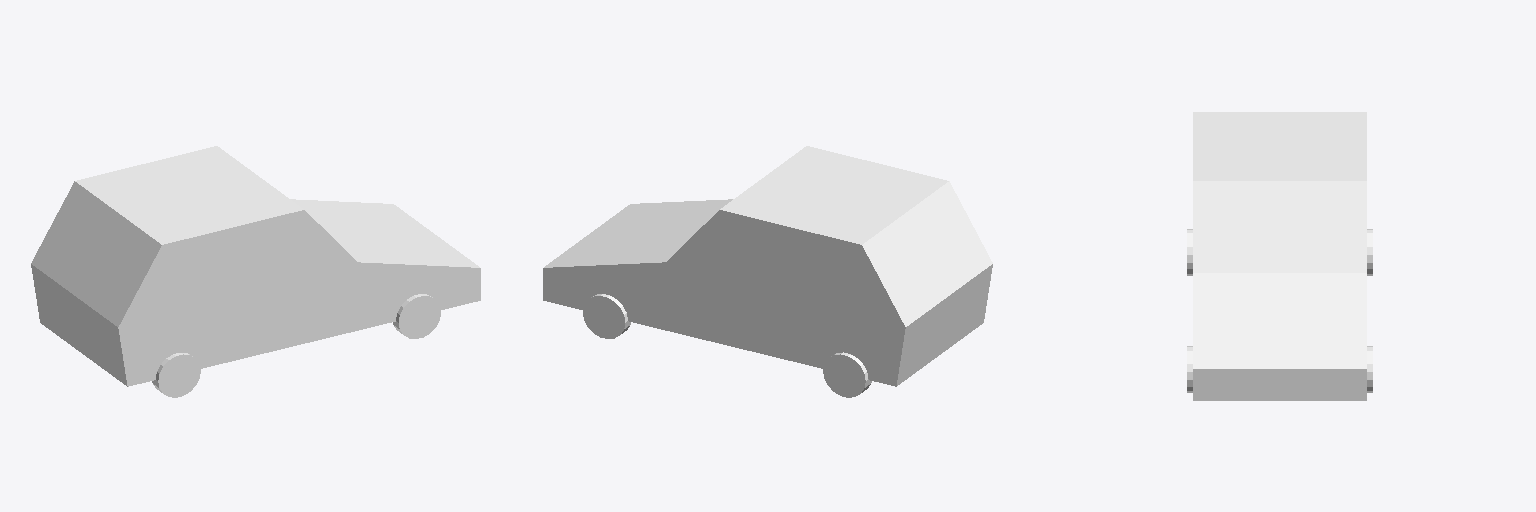
Rendered from car1.obj.
3 views of the same model, side by side, from view 1: azimuth 30°, elevation 25°; view 2: azimuth 150°, elevation 25°; view 3: azimuth 270°, elevation 25° (orthographic).
Visible parts, largest first — view 1: CAR_01_CAR_02.001; view 2: CAR_01_CAR_02.001; view 3: CAR_01_CAR_02.001.
Boxes of the visible parts, x1=… form: CAR_01_CAR_02.001: x1=31, y1=146, x2=480, y2=397; CAR_01_CAR_02.001: x1=543, y1=146, x2=992, y2=397; CAR_01_CAR_02.001: x1=1187, y1=112, x2=1372, y2=400.
Size of the model in its own units: 78.51 by 31.87 by 34.81.